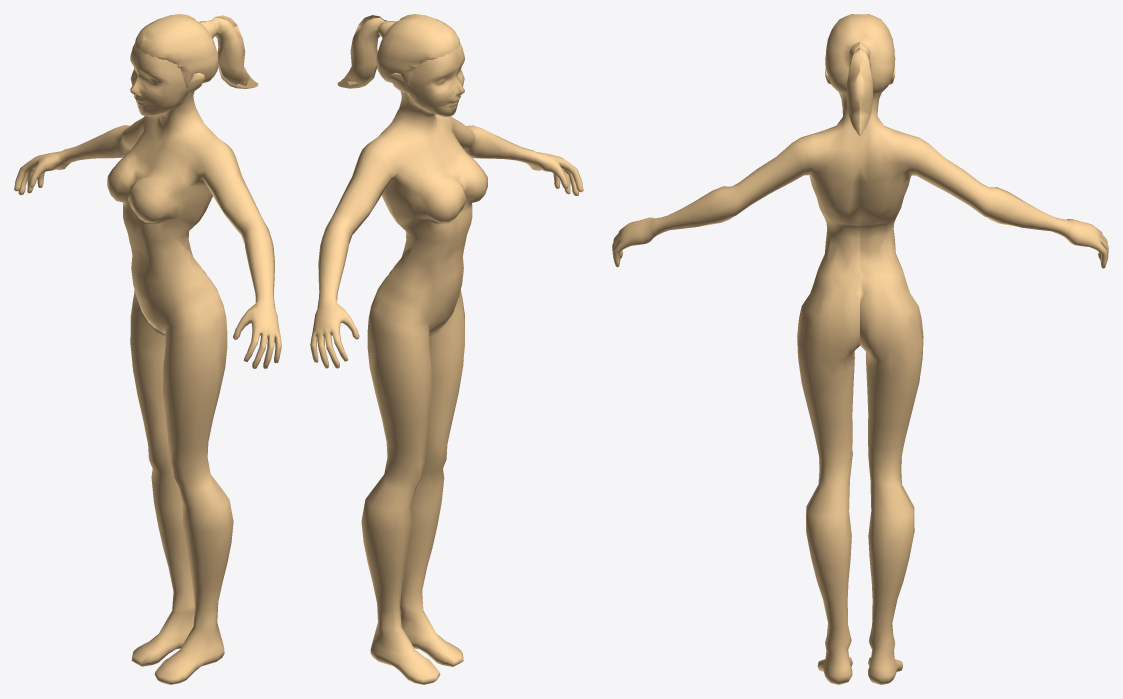
The model's file is ReFit_Model.fbx.
The picture shows the model from 3 angles, left to right: view 1: azimuth 30°, elevation 25°; view 2: azimuth 150°, elevation 25°; view 3: azimuth 270°, elevation 25°; orthographic projection.
Visible parts, largest first — view 1: LOWGirl; view 2: LOWGirl; view 3: LOWGirl.
Part boxes in pixels (bbox=[...]): LOWGirl: bbox=[14, 14, 281, 684]; LOWGirl: bbox=[310, 14, 583, 684]; LOWGirl: bbox=[612, 14, 1108, 684].
Bounding box in the file's own units: 40.86 × 187 × 127.
